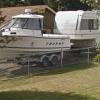Boat: (2, 7, 71, 67)
